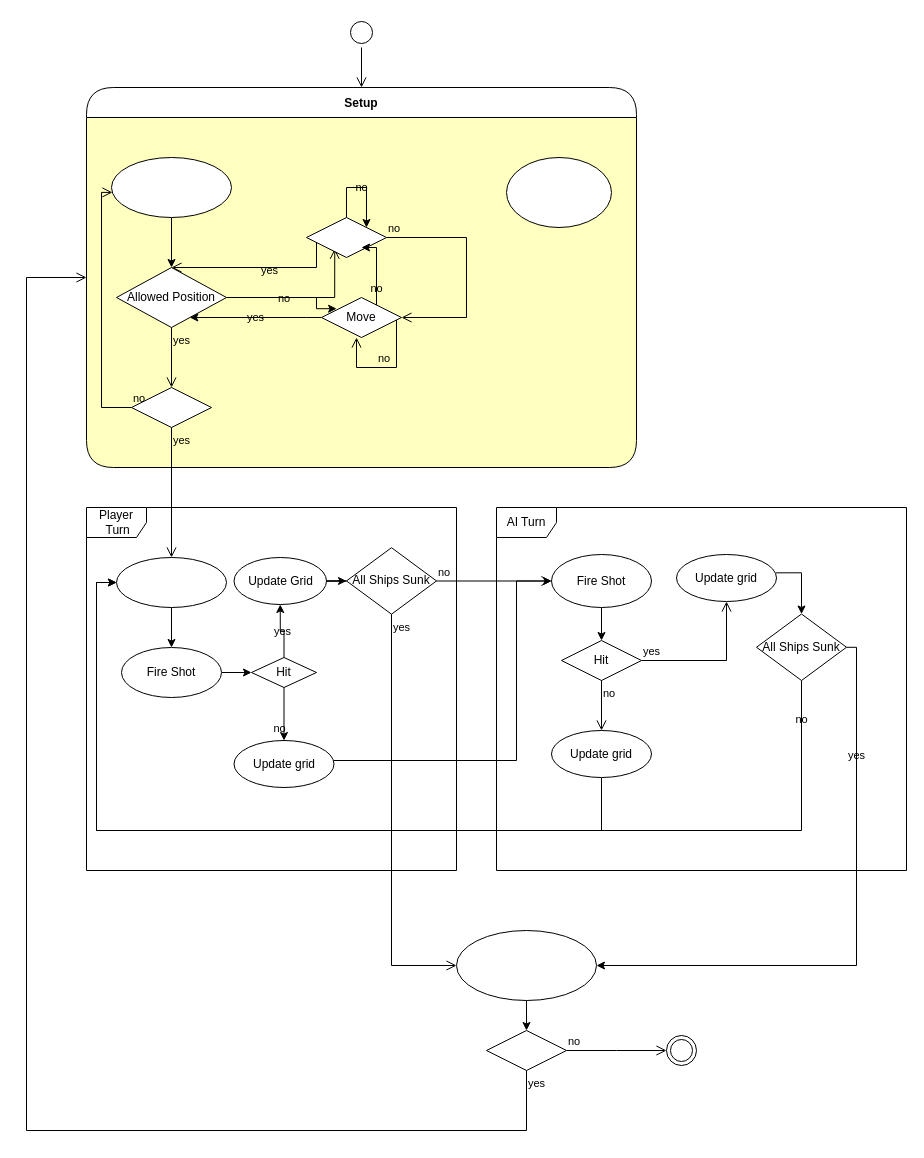
Some shapes in this 924 by 1158 pixel diagram are drawn without their labels. The box of each missing label's shape, as (x1, y1, x2, y2) in pixels:
AI setting up grid: (506, 156, 612, 228)
Determine Winner: (456, 930, 596, 1000)
Last ship: (130, 386, 212, 428)
Place Ship: (110, 156, 232, 218)
Restart: (486, 1030, 566, 1070)
Rotate: (306, 216, 386, 258)
View Grids: (116, 556, 226, 608)
